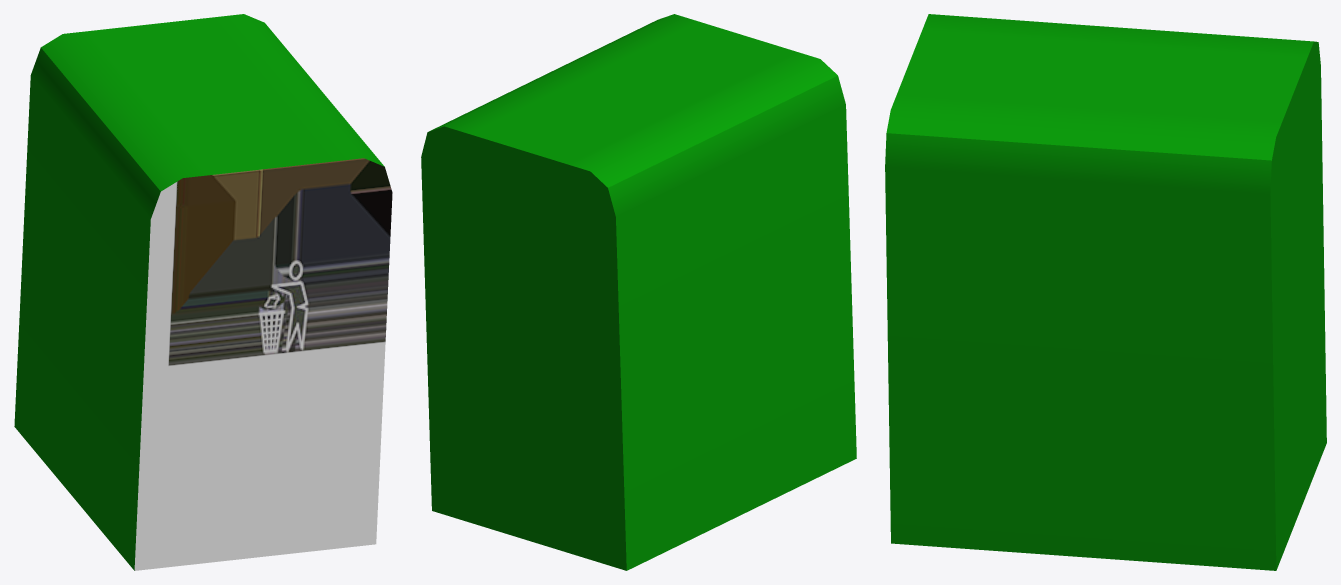
File: Marvin_Clarke_Trash Can.fbx
The picture shows the model from 3 angles, left to right: view 1: azimuth 30°, elevation 25°; view 2: azimuth 150°, elevation 25°; view 3: azimuth 270°, elevation 25°; orthographic projection. The views are drawn at different scales.
Parts seen in each view (by area): view 1: pCube2; view 2: pCube2; view 3: pCube2.
Boxes of the visible parts, x1,y1,x2,y2 form: pCube2: [14, 14, 392, 570]; pCube2: [421, 14, 856, 570]; pCube2: [885, 14, 1326, 570].
Size of the model in its own units: 2.33 by 3.08 by 2.82.
